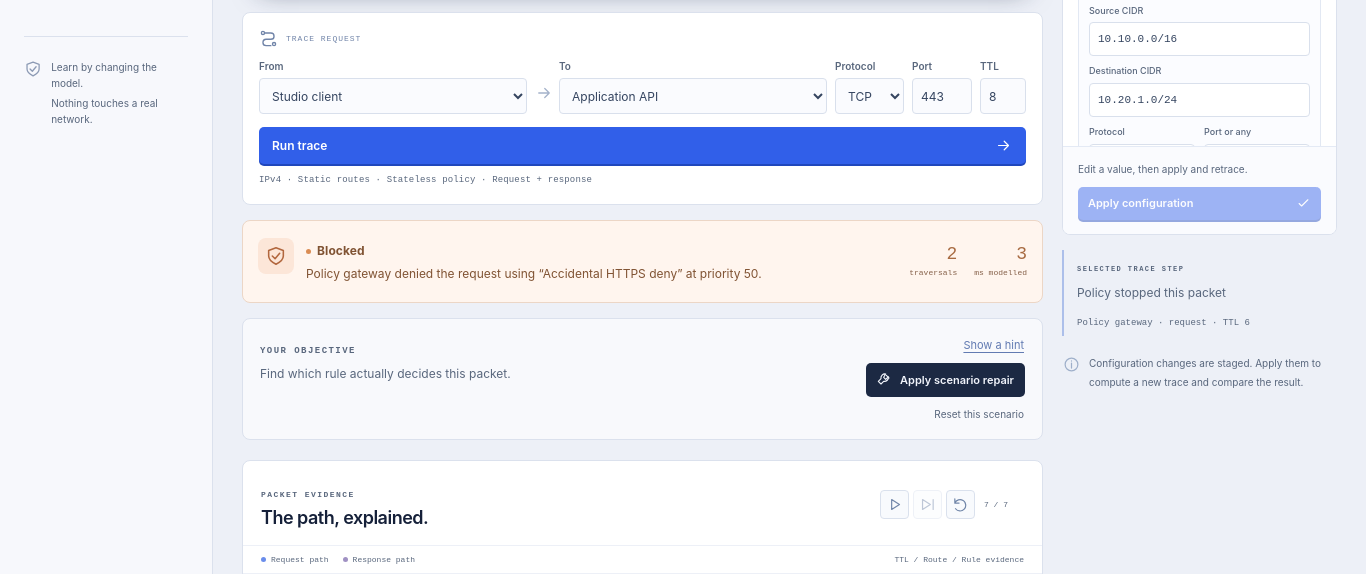
Test case: guided investigation using the actual forwarding engine › recomputes a changed request rather than keeping the previous successful outcome
(page scrolled)
Click the button "Apply scenario repair".
click(946, 380)  # box [866,363,1025,397]
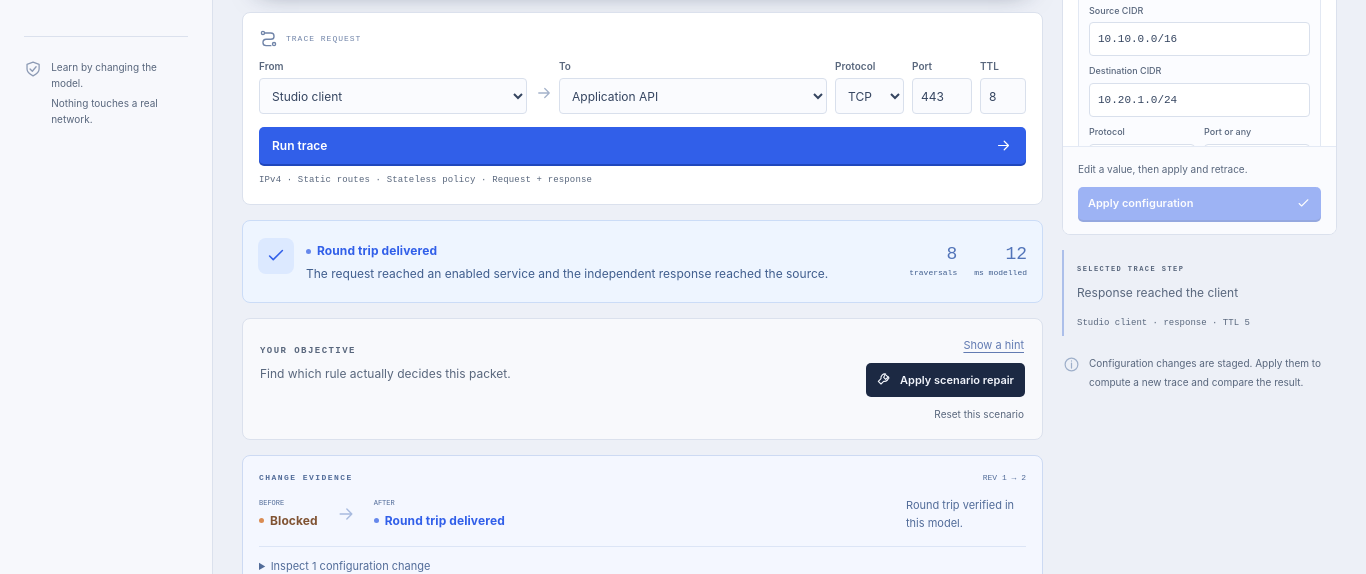
Replace the text in the number field named "Destination port" with "80" at coordinates (942, 96), box [912,78,972,114]
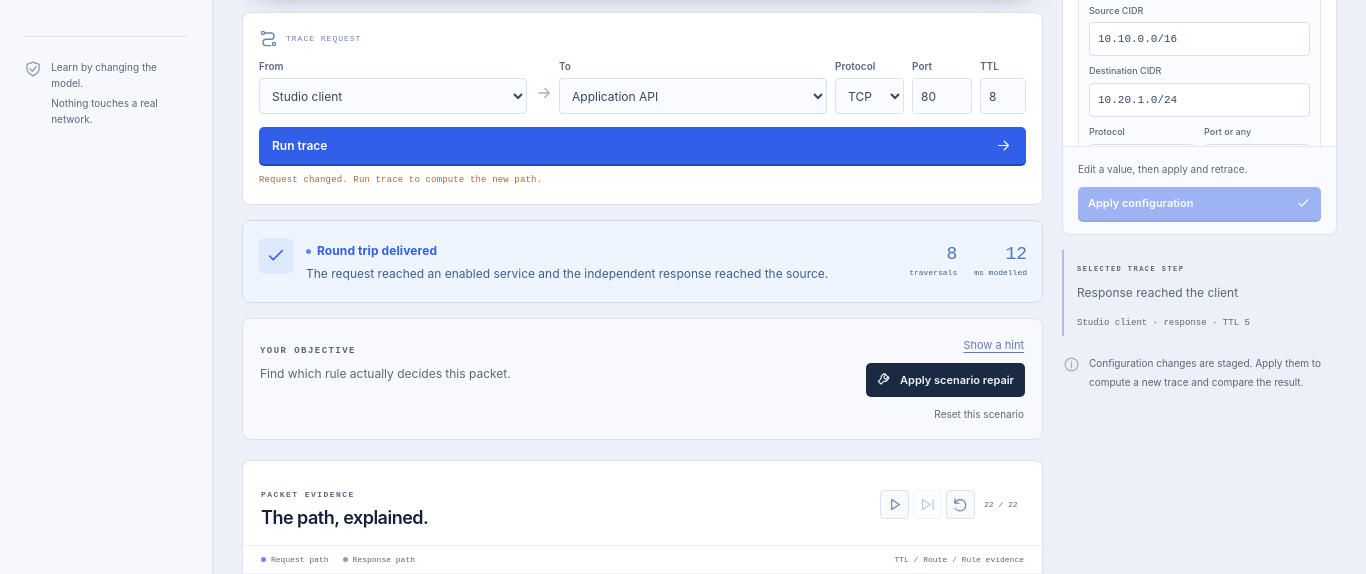
Check: the text "Request changed. Run trace to compute the new path." is shown, box [259,175,542,185]
Click the button "Run trace".
click(300, 146)  # box [259,127,1026,164]
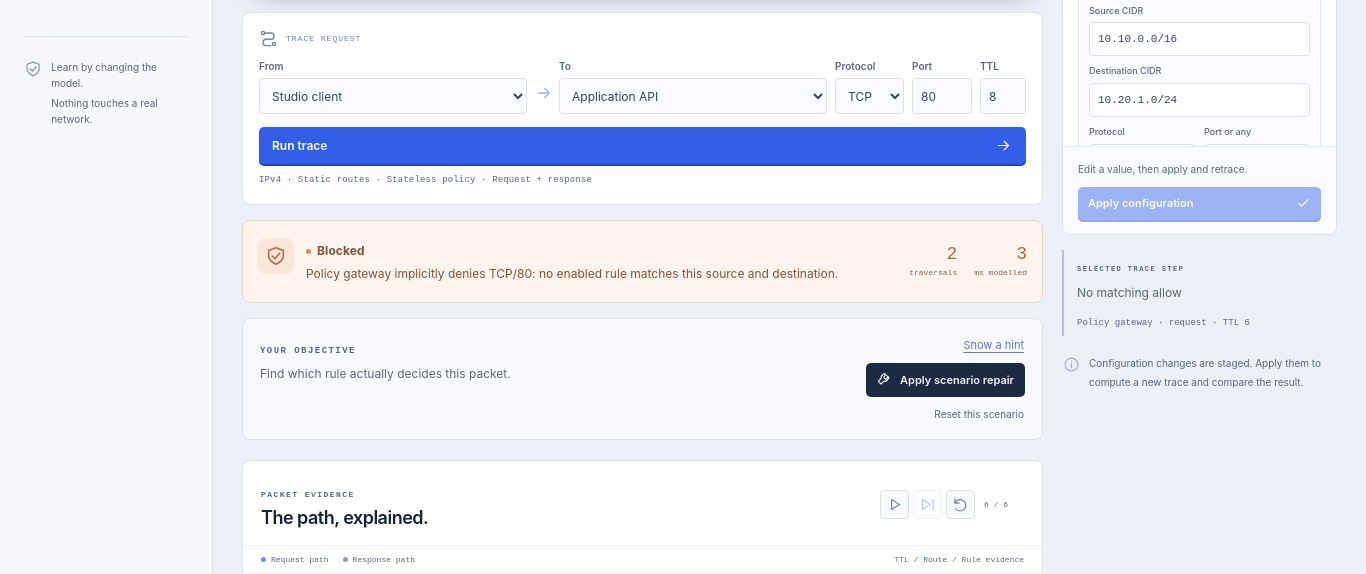
Check: the text "Blocked" is shown, box [306,242,365,260]
Check: the text "TCP/80" is shown, box [306,266,838,281]
Check: the text "Response reached the client" is gone
